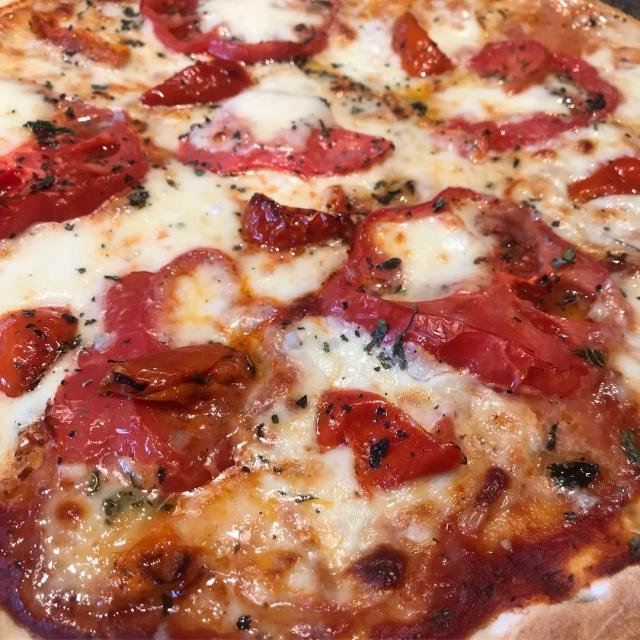pepperoni: (434, 51, 620, 152), (176, 126, 398, 180)
pizza: (0, 0, 640, 640)
tomatoes: (321, 185, 634, 397), (50, 266, 252, 482), (0, 103, 149, 240), (315, 393, 468, 486), (142, 0, 340, 62), (98, 342, 252, 414), (0, 302, 79, 398), (230, 191, 358, 246), (138, 60, 260, 108), (471, 39, 547, 93), (392, 12, 457, 72), (565, 152, 640, 204)
